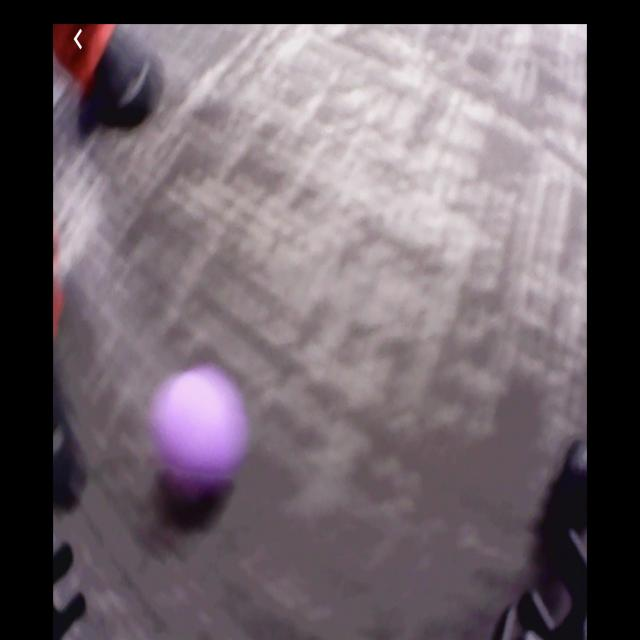ball: (154, 366, 244, 491)
